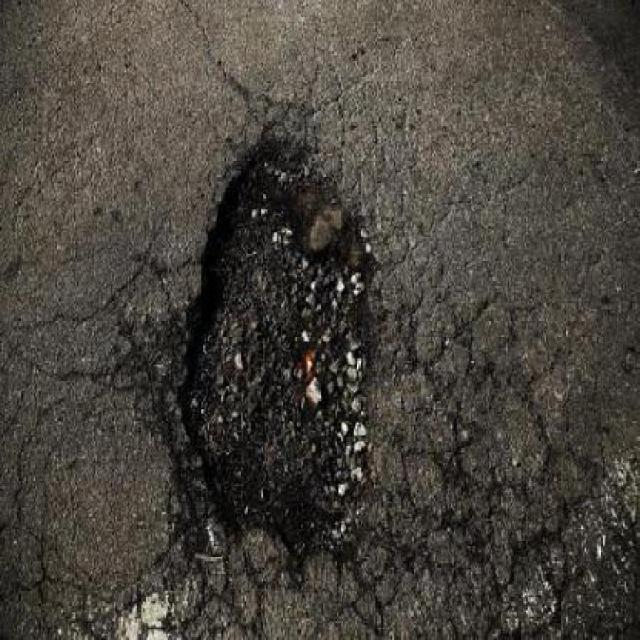Pothole: (156, 126, 390, 560)
